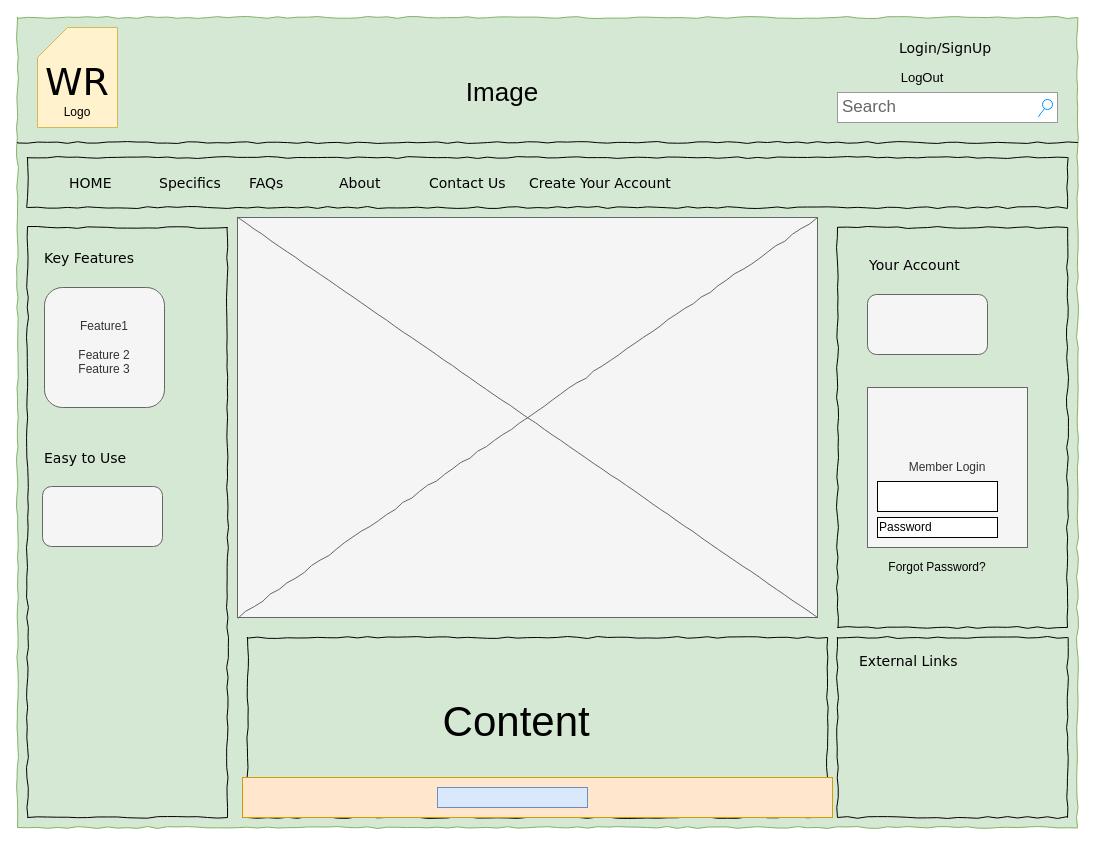
Image size: 1095x845. Some labels were removed from this diagram. The shapes that lost their labels are listed below. From the top down, each one's centre as x and y in pixels, then its label:
At pixel 527 417: "Image/Video/Animation".
At pixel 937 496: "Email".
At pixel 512 797: "Footer".
